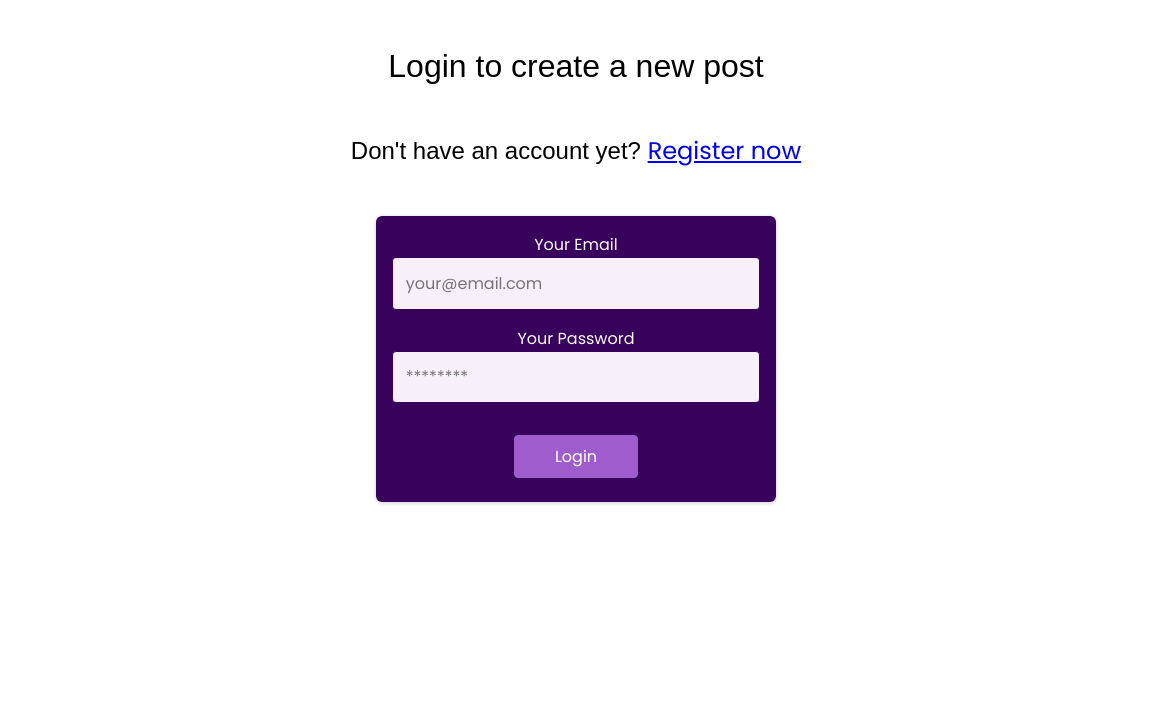
Test: Behaviour of error modal › Error modal pops up if email or password fields are empyt.
Click the button with test id "loginBtn" at (576, 457), box [514,435,638,478]
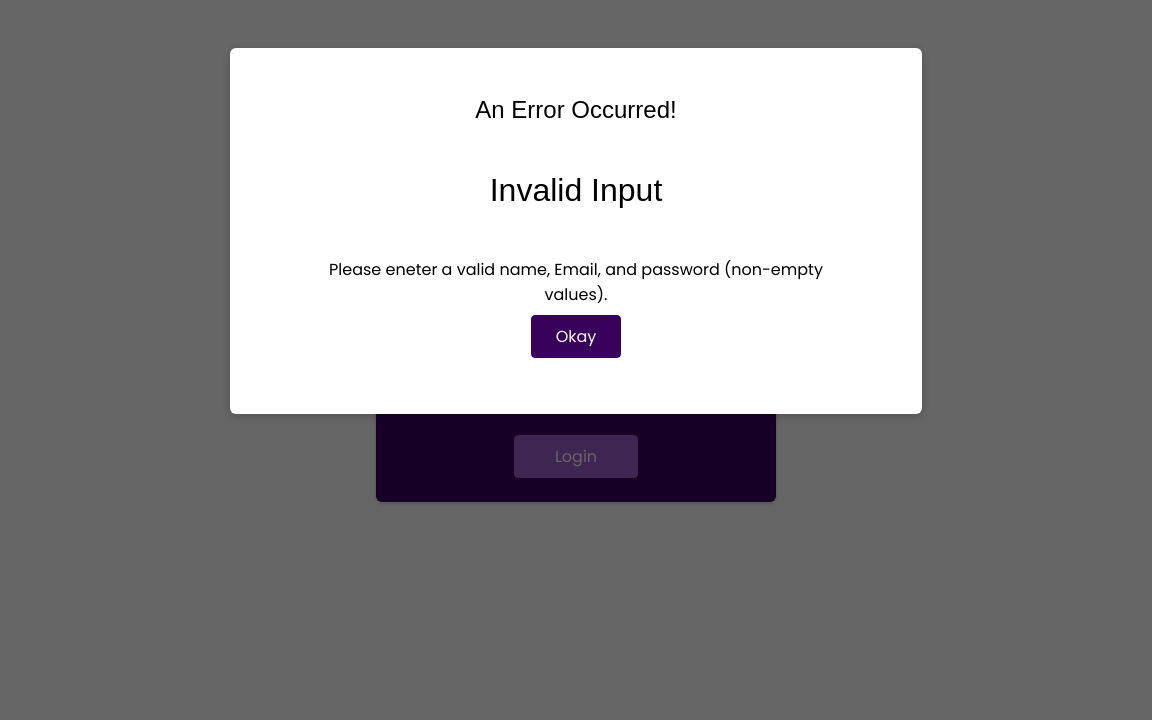
Expected: the heading "An Error Occurred!" is shown, [475,96,677,123]
